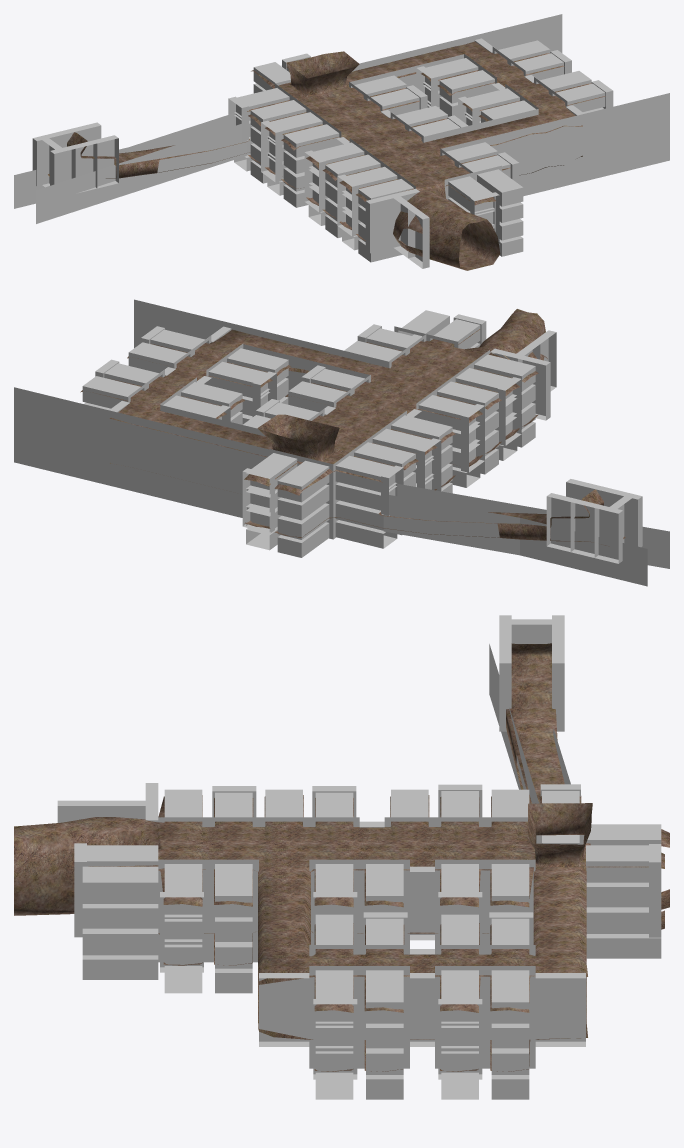
Rendered from graves.fbx.
3 views of the same model, one above another, from view 1: azimuth 30°, elevation 25°; view 2: azimuth 150°, elevation 25°; view 3: azimuth 270°, elevation 25° (orthographic). The views are drawn at different scales.
Parts seen in each view (by area): view 1: Grave_Ground, Tomb_Wall3, Tomb_Wall16, Tomb_Wall9, Tomb_Wall12, Tomb_Grave23, Tomb_Grave17, Tomb_Grave12, Tomb_Wall15, Tomb_Wall19, Tomb_Grave19, Tomb_Grave15 (+34 smaller); view 2: Grave_Ground, Tomb_Wall19, Tomb_Wall7, Tomb_Wall10, Tomb_Wall20, Tomb_Wall11, Tomb_Wall6, Tomb_Grave13, Tomb_Grave15, Tomb_Grave14, Tomb_Grave19, Tomb_Grave9 (+31 smaller); view 3: Grave_Ground, Tomb_Grave23, Tomb_Grave8, Tomb_Grave5, Tomb_Grave25, Tomb_Grave13, Tomb_Grave2, Tomb_Grave3, Tomb_Grave7, Tomb_Grave6, Tomb_Grave26, Tomb_Grave24 (+26 smaller).
Boxes of the visible parts, left/top/right/bottom form: Grave_Ground: left=48, top=41, right=605, bottom=270; Tomb_Wall3: left=555, top=127, right=669, bottom=188; Tomb_Wall16: left=555, top=93, right=669, bottom=154; Tomb_Wall9: left=141, top=124, right=246, bottom=189; Tomb_Wall12: left=36, top=156, right=141, bottom=223; Tomb_Grave23: left=444, top=165, right=523, bottom=225; Tomb_Grave17: left=267, top=108, right=341, bottom=173; Tomb_Grave12: left=423, top=54, right=496, bottom=117; Tomb_Wall15: left=441, top=121, right=554, bottom=163; Tomb_Wall19: left=447, top=14, right=562, bottom=50; Tomb_Grave19: left=308, top=138, right=382, bottom=203; Tomb_Grave15: left=234, top=83, right=308, bottom=147; Grave_Ground: left=80, top=309, right=625, bottom=546; Tomb_Wall19: left=14, top=387, right=141, bottom=455; Tomb_Wall7: left=14, top=425, right=141, bottom=493; Tomb_Wall10: left=383, top=495, right=519, bottom=555; Tomb_Wall20: left=141, top=418, right=269, bottom=480; Tomb_Wall11: left=520, top=518, right=647, bottom=586; Tomb_Wall6: left=141, top=456, right=242, bottom=517; Tomb_Grave13: left=246, top=449, right=333, bottom=520; Tomb_Grave15: left=333, top=437, right=415, bottom=510; Tomb_Grave14: left=246, top=501, right=333, bottom=557; Tomb_Grave19: left=416, top=377, right=498, bottom=448; Tomb_Grave9: left=206, top=343, right=288, bottom=416; Grave_Ground: left=14, top=643, right=669, bottom=1071; Tomb_Grave23: left=82, top=845, right=158, bottom=928; Tomb_Grave8: left=435, top=966, right=535, bottom=1048; Tomb_Grave5: left=309, top=966, right=409, bottom=1048; Tomb_Grave25: left=158, top=859, right=258, bottom=941; Tomb_Grave13: left=586, top=824, right=661, bottom=907; Tomb_Grave2: left=309, top=859, right=409, bottom=917; Tomb_Grave3: left=435, top=859, right=535, bottom=917; Tomb_Grave7: left=435, top=1017, right=535, bottom=1099; Tomb_Grave6: left=309, top=1017, right=409, bottom=1099; Tomb_Grave26: left=158, top=911, right=257, bottom=993; Tomb_Grave24: left=82, top=928, right=158, bottom=979.
Size of the model in its own units: 3893 by 560 by 2607.
